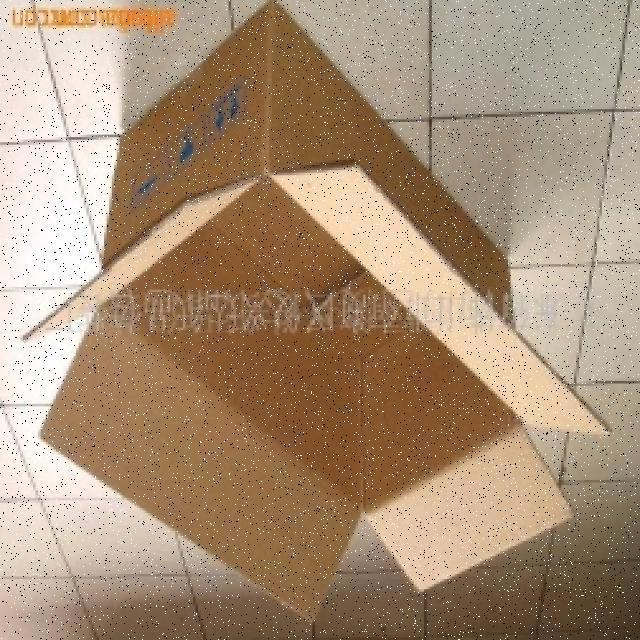box: (57, 35, 626, 608)
